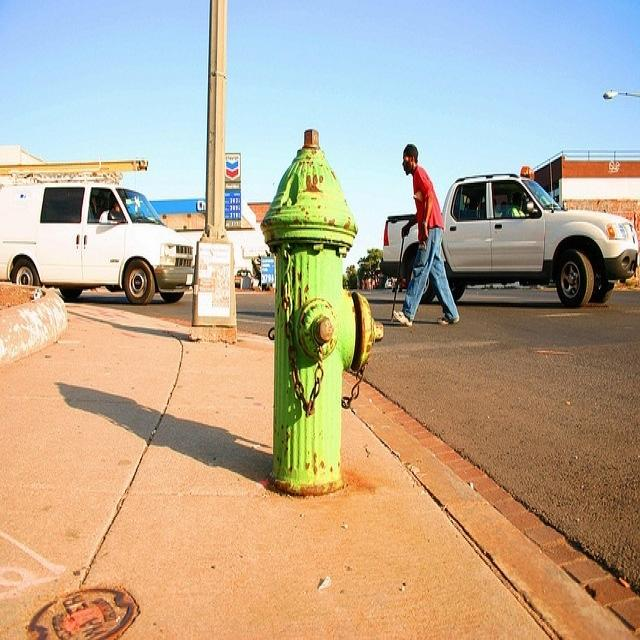fire_hydrant: (217, 140, 380, 554)
